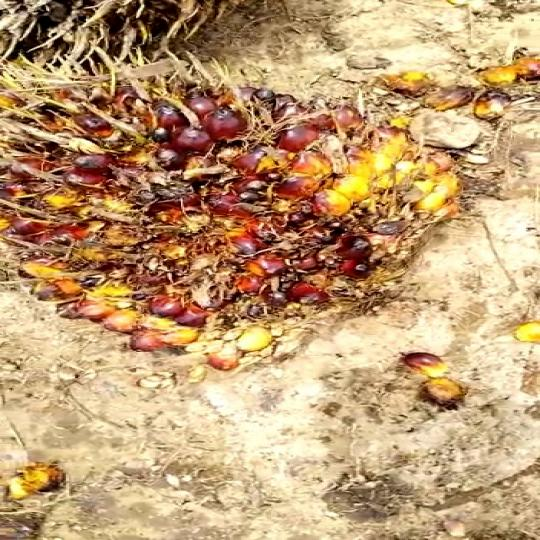masak: (10, 56, 475, 365)
